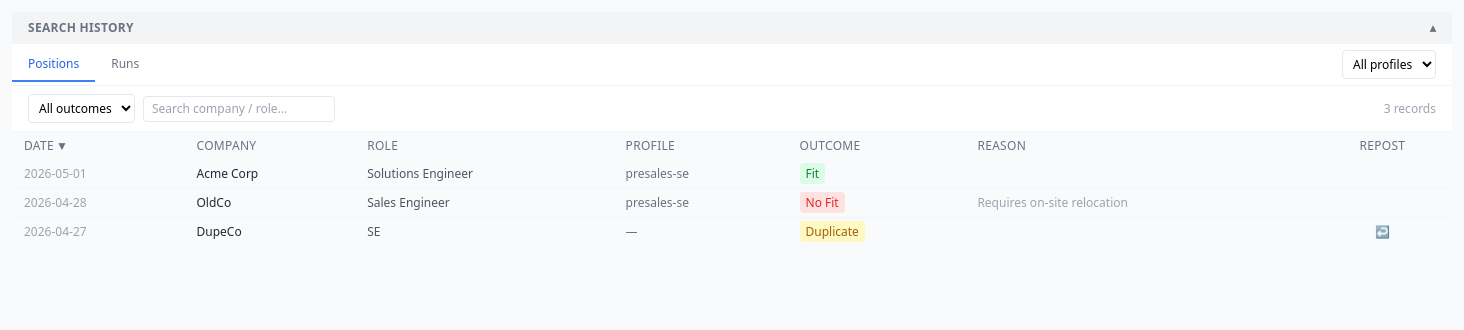
SearchView — Runs tab › shows empty state when no runs exist
Click the button "Runs".
click(125, 64)  # box [95, 48, 155, 82]
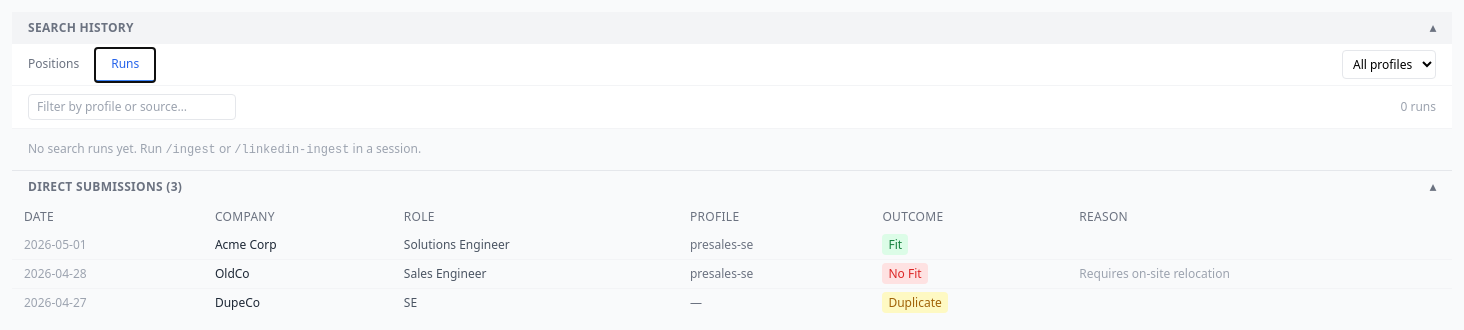
Result: the text "No search runs yet" is shown at [28, 140, 165, 157]
